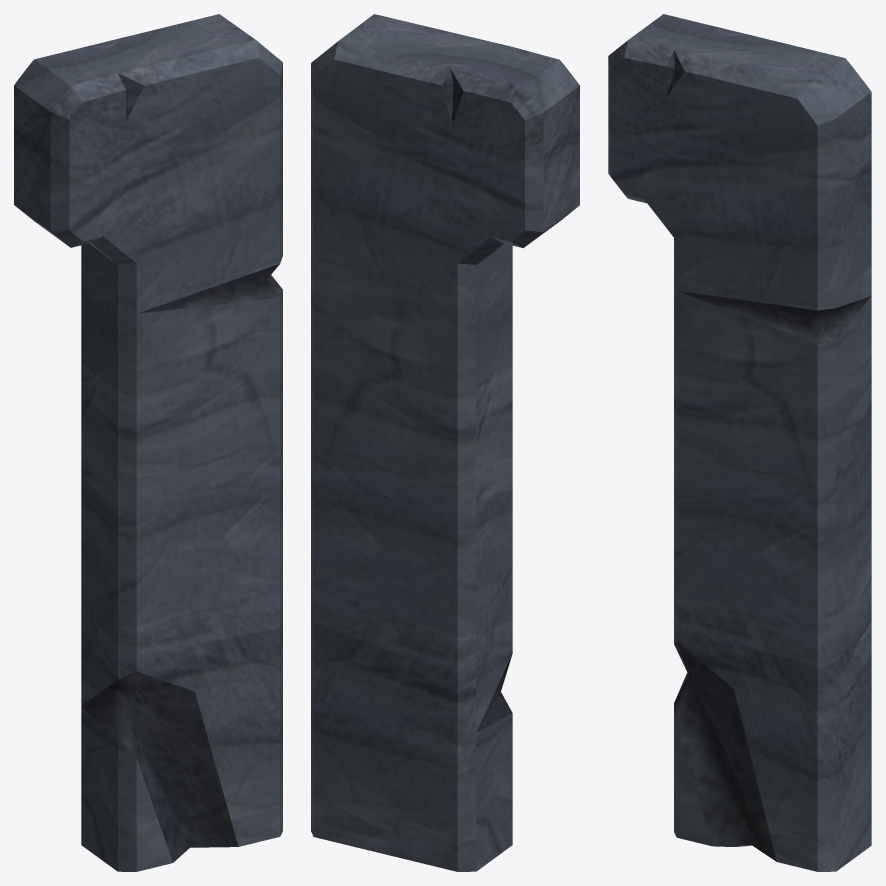
The picture shows the model from 3 angles, left to right: view 1: azimuth 30°, elevation 25°; view 2: azimuth 150°, elevation 25°; view 3: azimuth 330°, elevation 25°; orthographic projection. The views are drawn at different scales.
Visible parts, largest first — view 1: StandColumn01; view 2: StandColumn01; view 3: StandColumn01.
Boxes of the visible parts, box(x1,y1,x2,y2) form: StandColumn01: box(14, 14, 282, 871); StandColumn01: box(311, 14, 579, 871); StandColumn01: box(608, 14, 871, 871).
Size of what is drawn, in the model's own units: 2.51 by 8.24 by 0.9877.
1 material, 1 textured.
